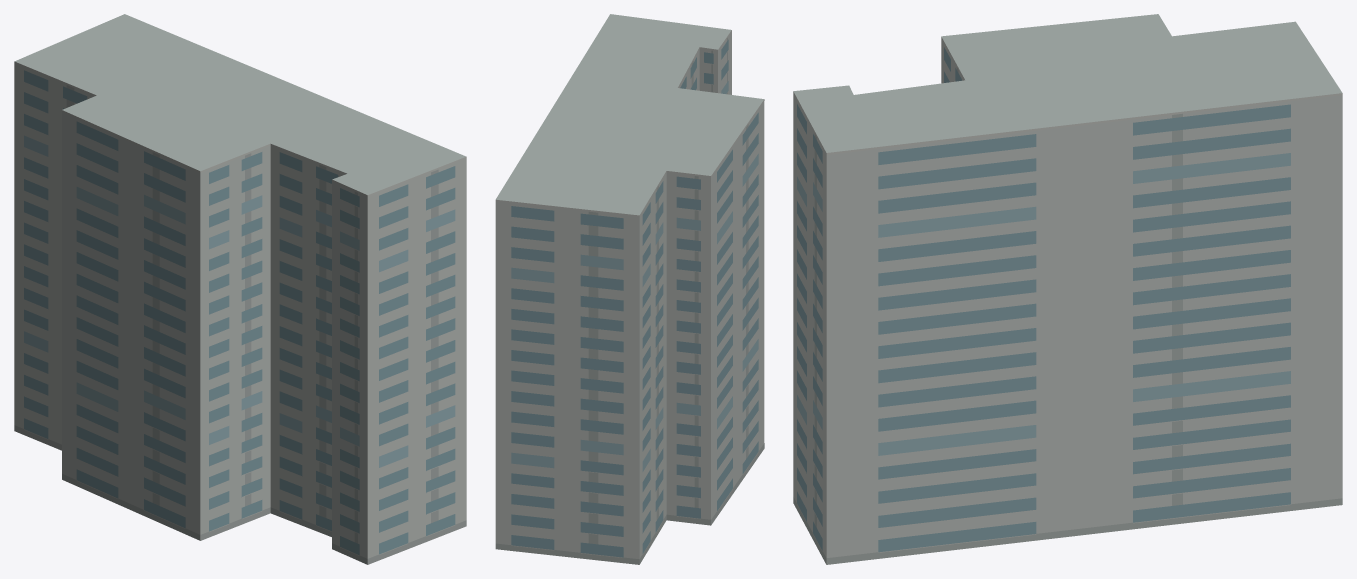
File: residential-baec20b4-79ff-4548-8bda-adde971f8cec.glb
3 renders of one model, left to right at view 1: azimuth 30°, elevation 25°; view 2: azimuth 150°, elevation 25°; view 3: azimuth 270°, elevation 25°, orthographic. The views are drawn at different scales.
Visible parts, largest first — view 1: residential-baec20b4-79ff-4548-8bda-adde971f8cec.tmp; view 2: residential-baec20b4-79ff-4548-8bda-adde971f8cec.tmp; view 3: residential-baec20b4-79ff-4548-8bda-adde971f8cec.tmp.
Part boxes in pixels (<box>): residential-baec20b4-79ff-4548-8bda-adde971f8cec.tmp: <box>14,14,466,564</box>; residential-baec20b4-79ff-4548-8bda-adde971f8cec.tmp: <box>495,14,764,564</box>; residential-baec20b4-79ff-4548-8bda-adde971f8cec.tmp: <box>793,14,1342,564</box>.
Bounding box in the file's own units: 34.02 × 47 × 56.81.
